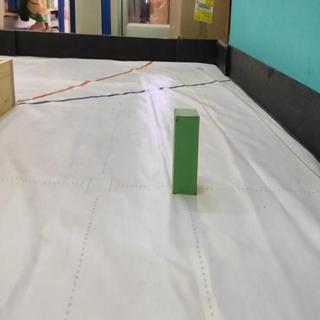greenbox: (172, 107, 200, 196)
